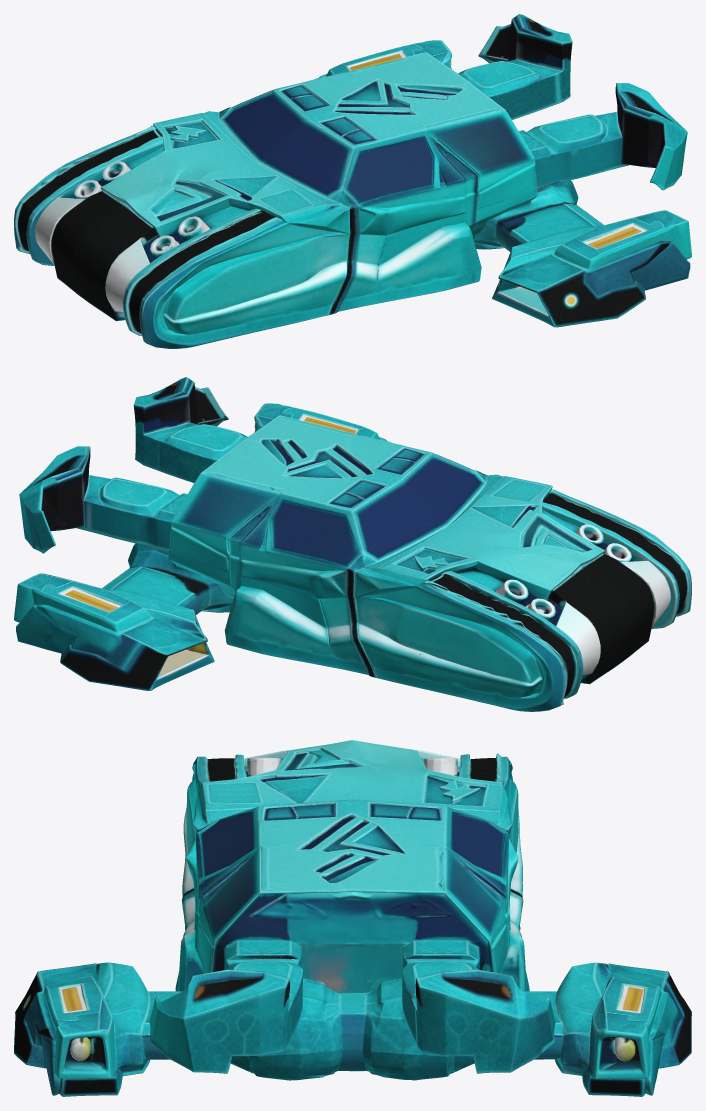
The model's file is titan.glb.
3 views of the same model, one above another, from view 1: azimuth 30°, elevation 25°; view 2: azimuth 150°, elevation 25°; view 3: azimuth 270°, elevation 25° (orthographic). The views are drawn at different scales.
Parts seen in each view (by area): view 1: Object_8, Object_6, Object_5, Object_7, Object_4; view 2: Object_8, Object_7, Object_6, Object_5, Object_4, Object_9; view 3: Object_6, Object_4, Object_5, Object_8, Object_7.
Part boxes in pixels (<box>): Object_8: <box>14,67,524,348</box>; Object_6: <box>314,14,690,326</box>; Object_5: <box>16,15,687,345</box>; Object_7: <box>23,61,565,348</box>; Object_4: <box>317,24,691,311</box>; Object_8: <box>190,430,691,711</box>; Object_7: <box>127,423,669,711</box>; Object_6: <box>14,379,388,690</box>; Object_5: <box>19,377,690,706</box>; Object_4: <box>14,387,412,690</box>; Object_9: <box>162,454,313,674</box>; Object_6: <box>14,849,691,1096</box>; Object_4: <box>20,801,691,1096</box>; Object_5: <box>168,743,540,1073</box>; Object_8: <box>59,740,623,991</box>; Object_7: <box>15,740,668,1016</box>.
Bounding box in the file's own units: 1.9 × 0.6189 × 1.75.
1 material, 1 textured.
